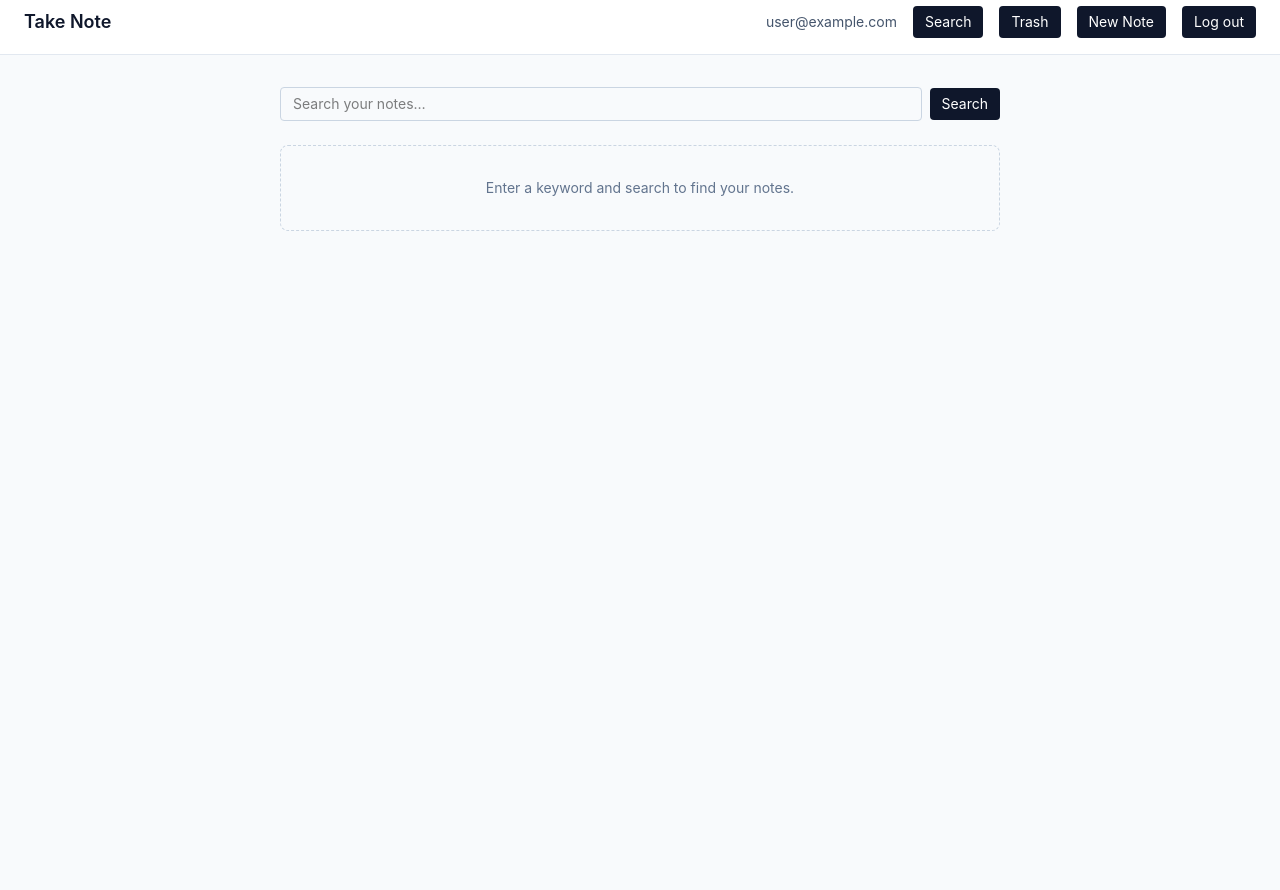
Test case: SearchPage › Navigating search result pages displays the corresponding results
Type "Note" into the field labelled "Search your notes" at (601, 104), box [280,87,922,121]
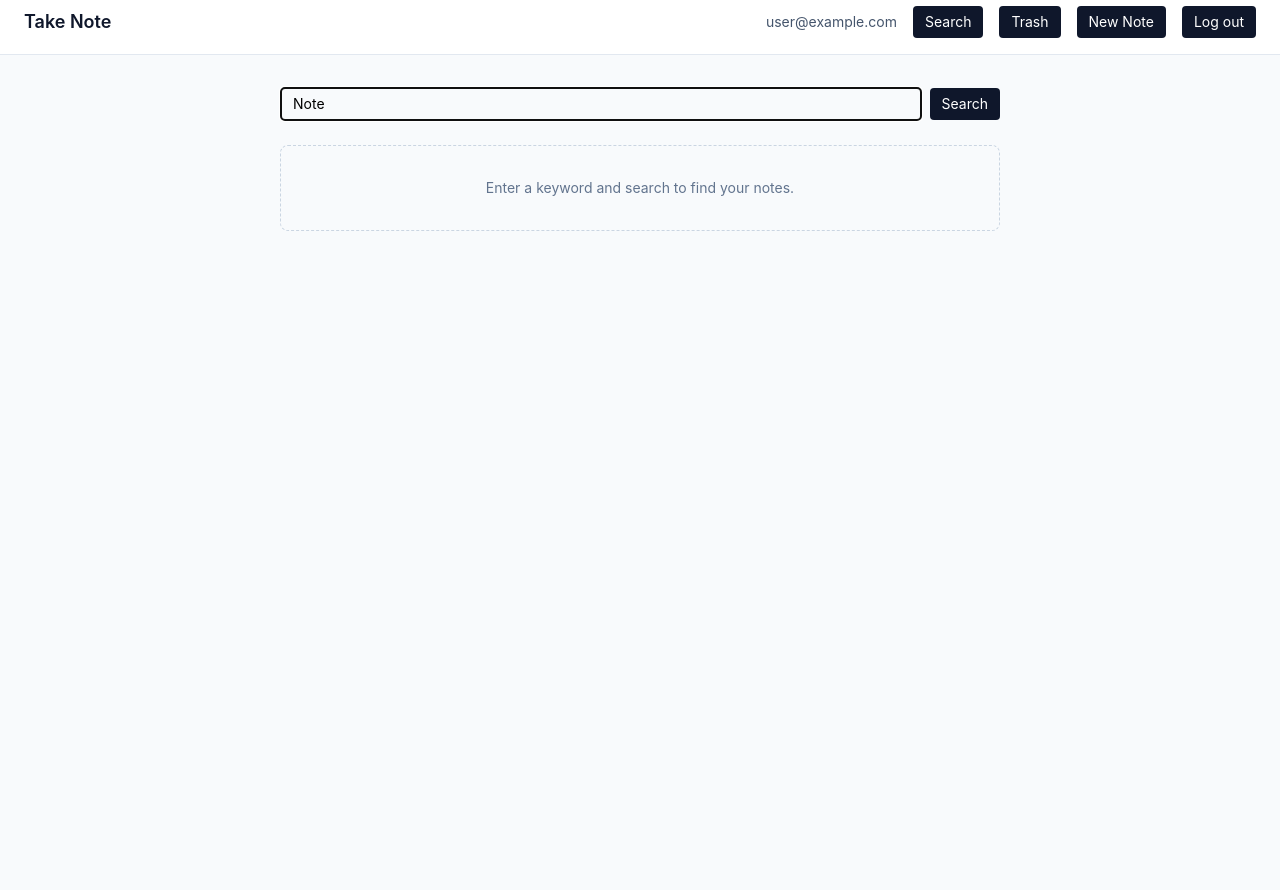
Click the button "Search" at (965, 104), box [930,88,1000,120]
(page scrolled)
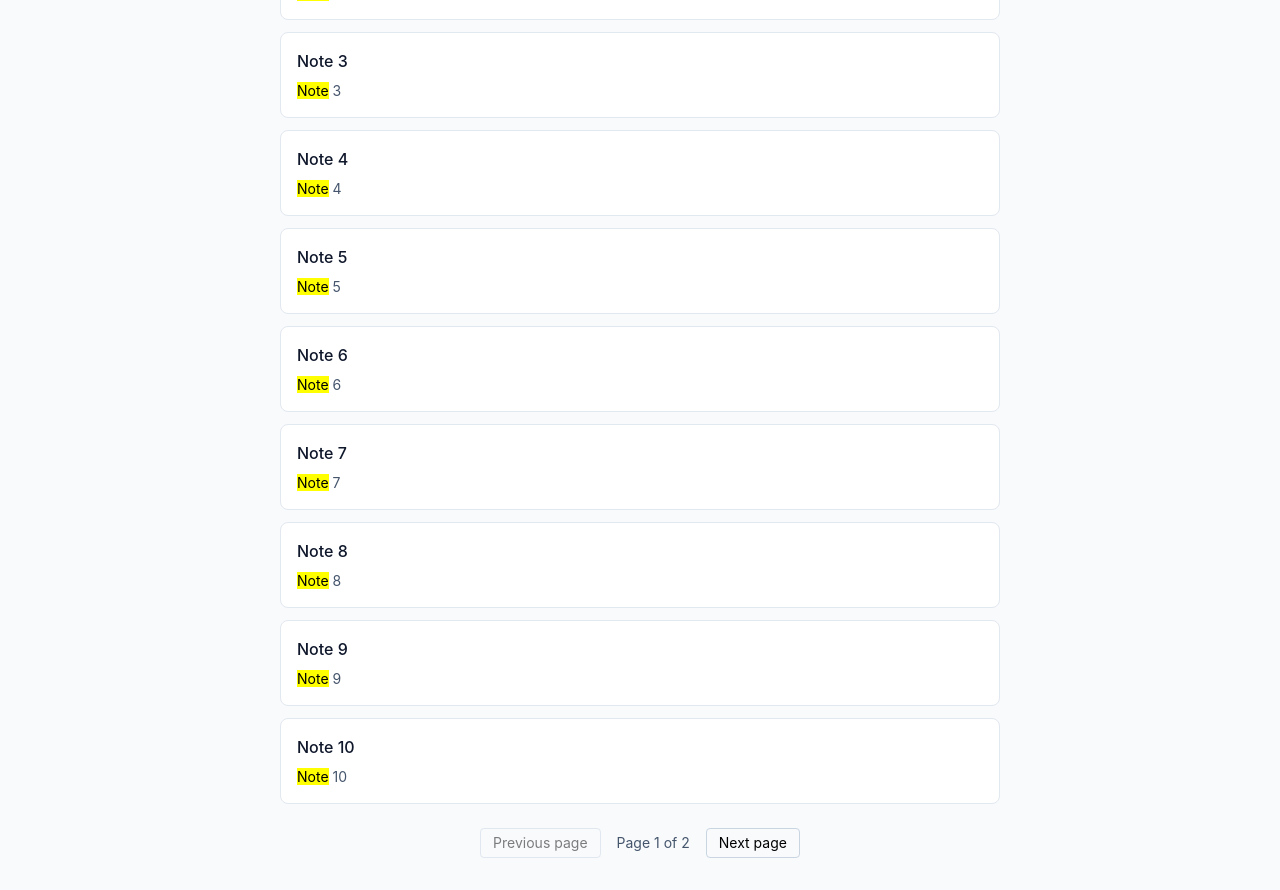
Result: the text "Page 1 of 2" is shown at [616,833,690,853]
Click the button "Next page" at (753, 843), box [706,828,800,858]
(page scrolled)
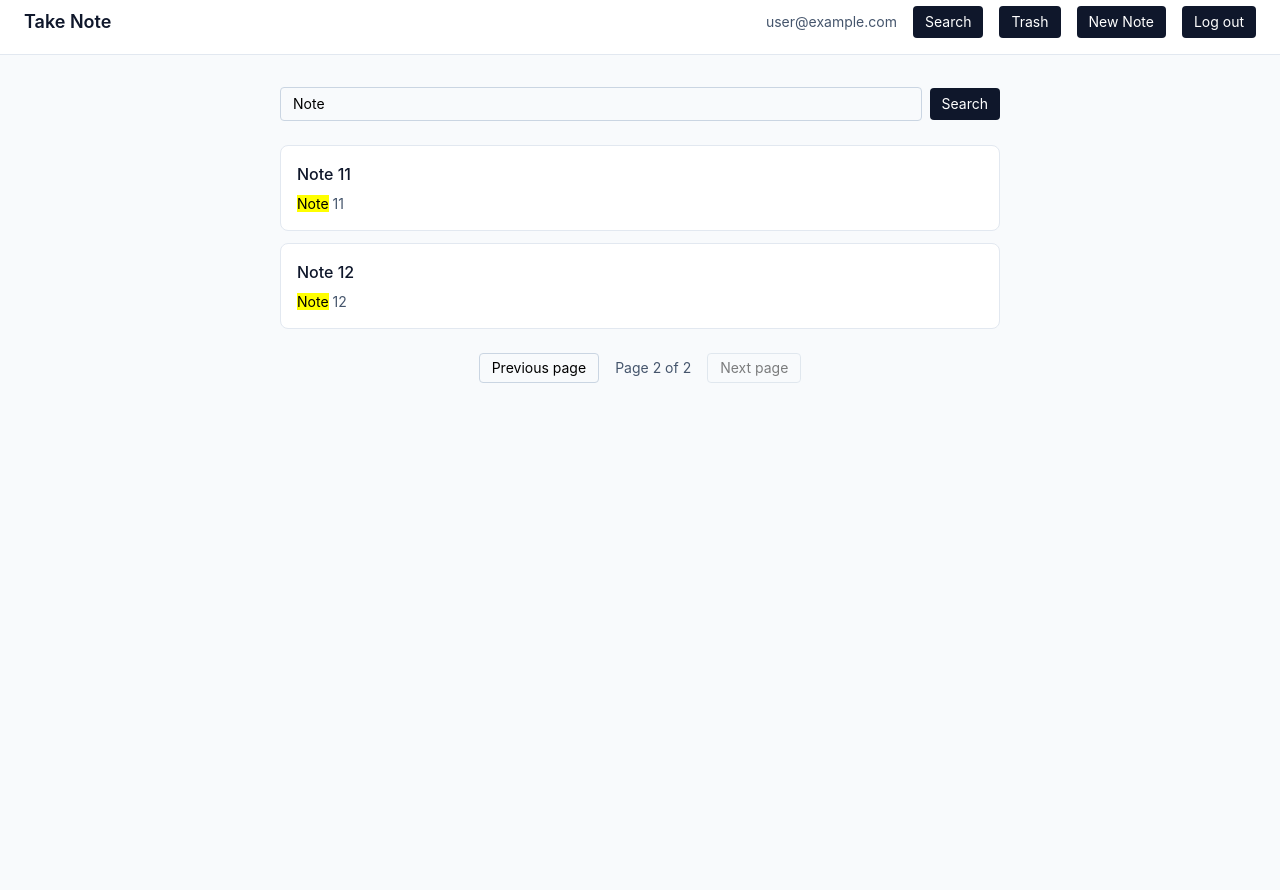
Result: the heading "Note 11" is shown at [297,164,351,184]
Result: the text "Page 2 of 2" is shown at [615,358,691,378]
